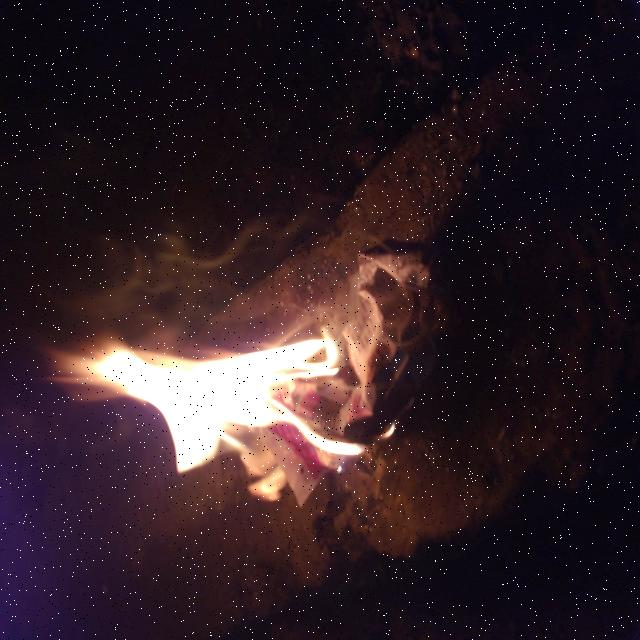fire: (54, 315, 401, 488)
